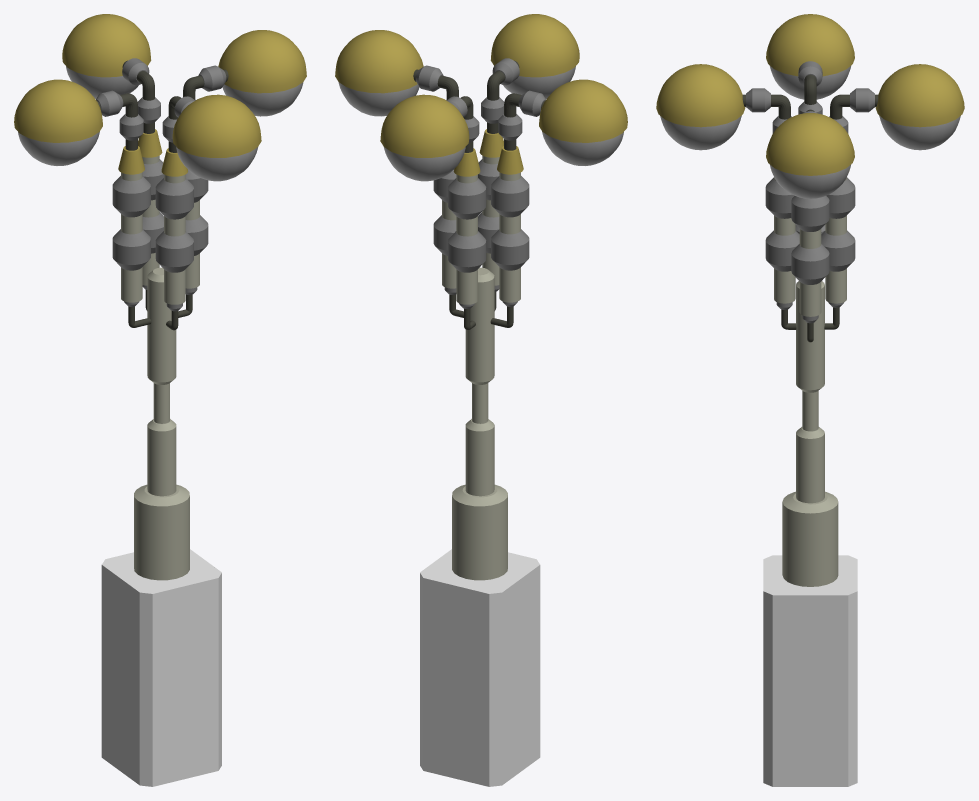
The model's file is wwr lampost.fbx.
The picture shows the model from 3 angles, left to right: view 1: azimuth 30°, elevation 25°; view 2: azimuth 150°, elevation 25°; view 3: azimuth 270°, elevation 25°; orthographic projection.
Parts seen in each view (by area): view 1: lamp_pCube19; view 2: lamp_pCube19; view 3: lamp_pCube19.
Part boxes in pixels (box(x1,y1,x2,y2)): lamp_pCube19: box(14, 14, 306, 786); lamp_pCube19: box(335, 14, 627, 786); lamp_pCube19: box(656, 14, 964, 786).
Bounding box in the file's own units: 7.75 × 18.5 × 7.4.
